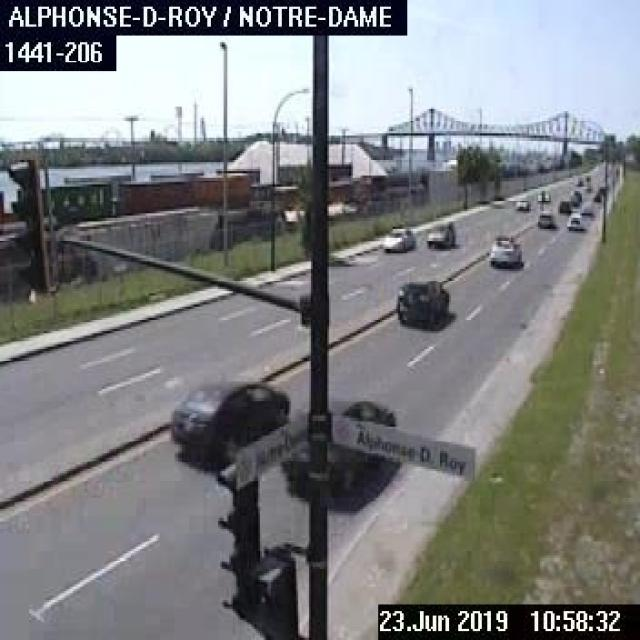vehicle: (280, 394, 404, 498), (165, 373, 291, 462), (393, 274, 449, 324), (380, 222, 415, 249), (424, 218, 456, 246), (489, 236, 520, 264), (579, 198, 596, 218), (565, 209, 582, 227), (534, 211, 552, 227), (556, 197, 572, 212), (534, 187, 551, 200), (515, 195, 529, 209)
